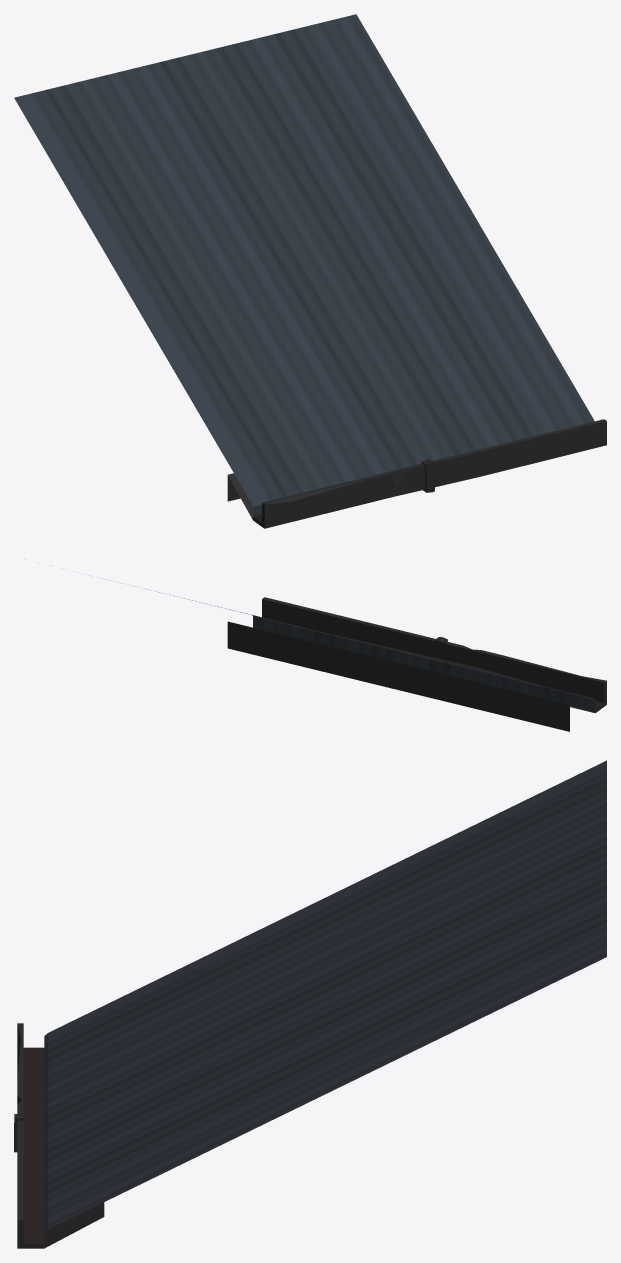
The model's file is SM_Bld_House_Roof_Angled_Gutter_01.fbx.
3 renders of one model, top to bottom at view 1: azimuth 30°, elevation 25°; view 2: azimuth 150°, elevation 25°; view 3: azimuth 270°, elevation 25°, orthographic. The views are drawn at different scales.
Parts seen in each view (by area): view 1: SM_Bld_House_Roof_Angled_Gutter_01; view 2: SM_Bld_House_Roof_Angled_Gutter_01; view 3: SM_Bld_House_Roof_Angled_Gutter_01.
Boxes of the visible parts, left/top/right/bottom form: SM_Bld_House_Roof_Angled_Gutter_01: left=14, top=14, right=606, bottom=528; SM_Bld_House_Roof_Angled_Gutter_01: left=121, top=583, right=606, bottom=731; SM_Bld_House_Roof_Angled_Gutter_01: left=14, top=760, right=606, bottom=1248.
Bounding box in the file's own units: 250 × 175 × 319.
